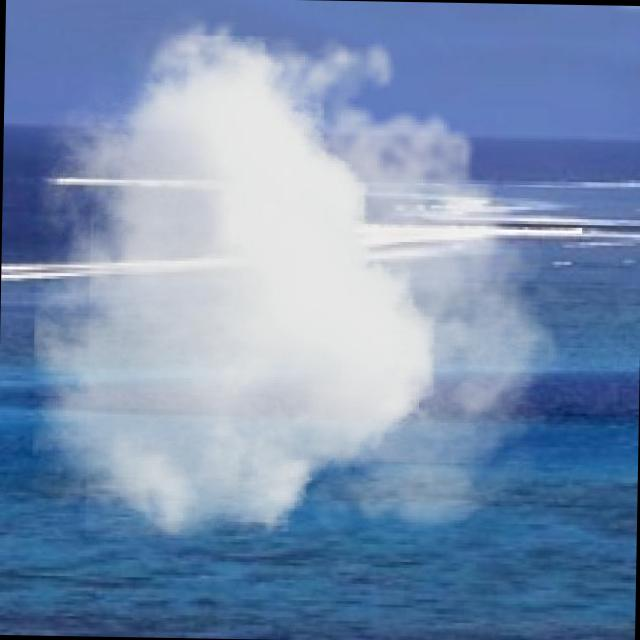Smoke: (30, 1, 582, 544)
